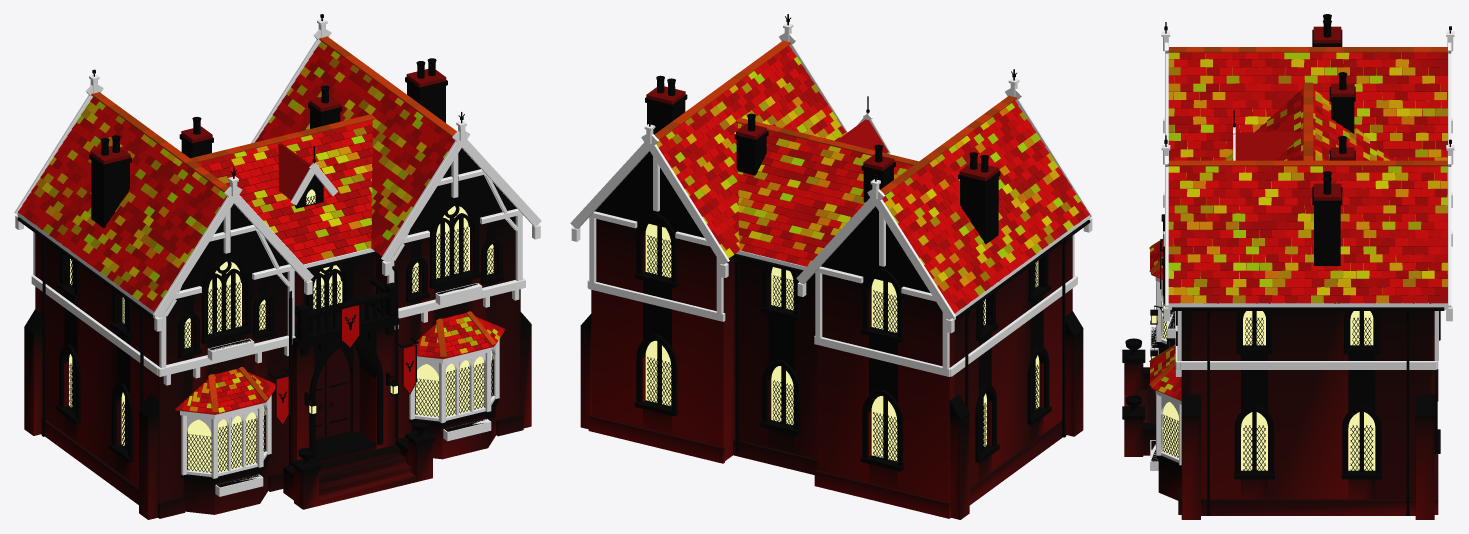
The model's file is SilverbrookNorthridgeHouse4.fbx.
3 renders of one model, left to right at view 1: azimuth 30°, elevation 25°; view 2: azimuth 150°, elevation 25°; view 3: azimuth 270°, elevation 25°, orthographic. The views are drawn at different scales.
Visible parts, largest first — view 1: SM_SBNorthridgeHouse4_Masonry, SM_SBNorthridgeHouse4_Roof, SM_SBNorthridgeHouse4_Timber, SM_SBNorthridgeHouse4_Details; view 2: SM_SBNorthridgeHouse4_Masonry, SM_SBNorthridgeHouse4_Roof, SM_SBNorthridgeHouse4_Timber, SM_SBNorthridgeHouse4_Details; view 3: SM_SBNorthridgeHouse4_Roof, SM_SBNorthridgeHouse4_Masonry, SM_SBNorthridgeHouse4_Details, SM_SBNorthridgeHouse4_Timber.
Part boxes in pixels (left/top/right/bottom): SM_SBNorthridgeHouse4_Masonry: left=24, top=69, right=531, bottom=519; SM_SBNorthridgeHouse4_Roof: left=18, top=36, right=505, bottom=414; SM_SBNorthridgeHouse4_Timber: left=14, top=18, right=541, bottom=496; SM_SBNorthridgeHouse4_Details: left=17, top=14, right=493, bottom=487; SM_SBNorthridgeHouse4_Masonry: left=580, top=86, right=1083, bottom=519; SM_SBNorthridgeHouse4_Roof: left=654, top=40, right=1089, bottom=313; SM_SBNorthridgeHouse4_Timber: left=570, top=23, right=1093, bottom=376; SM_SBNorthridgeHouse4_Details: left=645, top=14, right=1090, bottom=461; SM_SBNorthridgeHouse4_Roof: left=1149, top=47, right=1447, bottom=400; SM_SBNorthridgeHouse4_Masonry: left=1122, top=26, right=1440, bottom=519; SM_SBNorthridgeHouse4_Details: left=1125, top=14, right=1451, bottom=515; SM_SBNorthridgeHouse4_Timber: left=1150, top=31, right=1454, bottom=470.
Bounding box in the file's own units: 1190 × 995 × 867.
